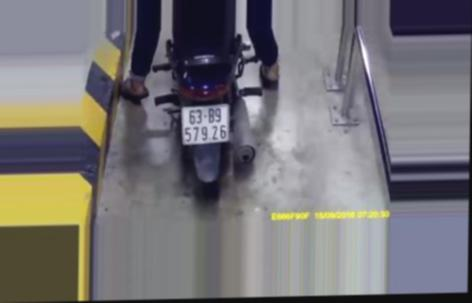License_Plate: (175, 100, 232, 147)
